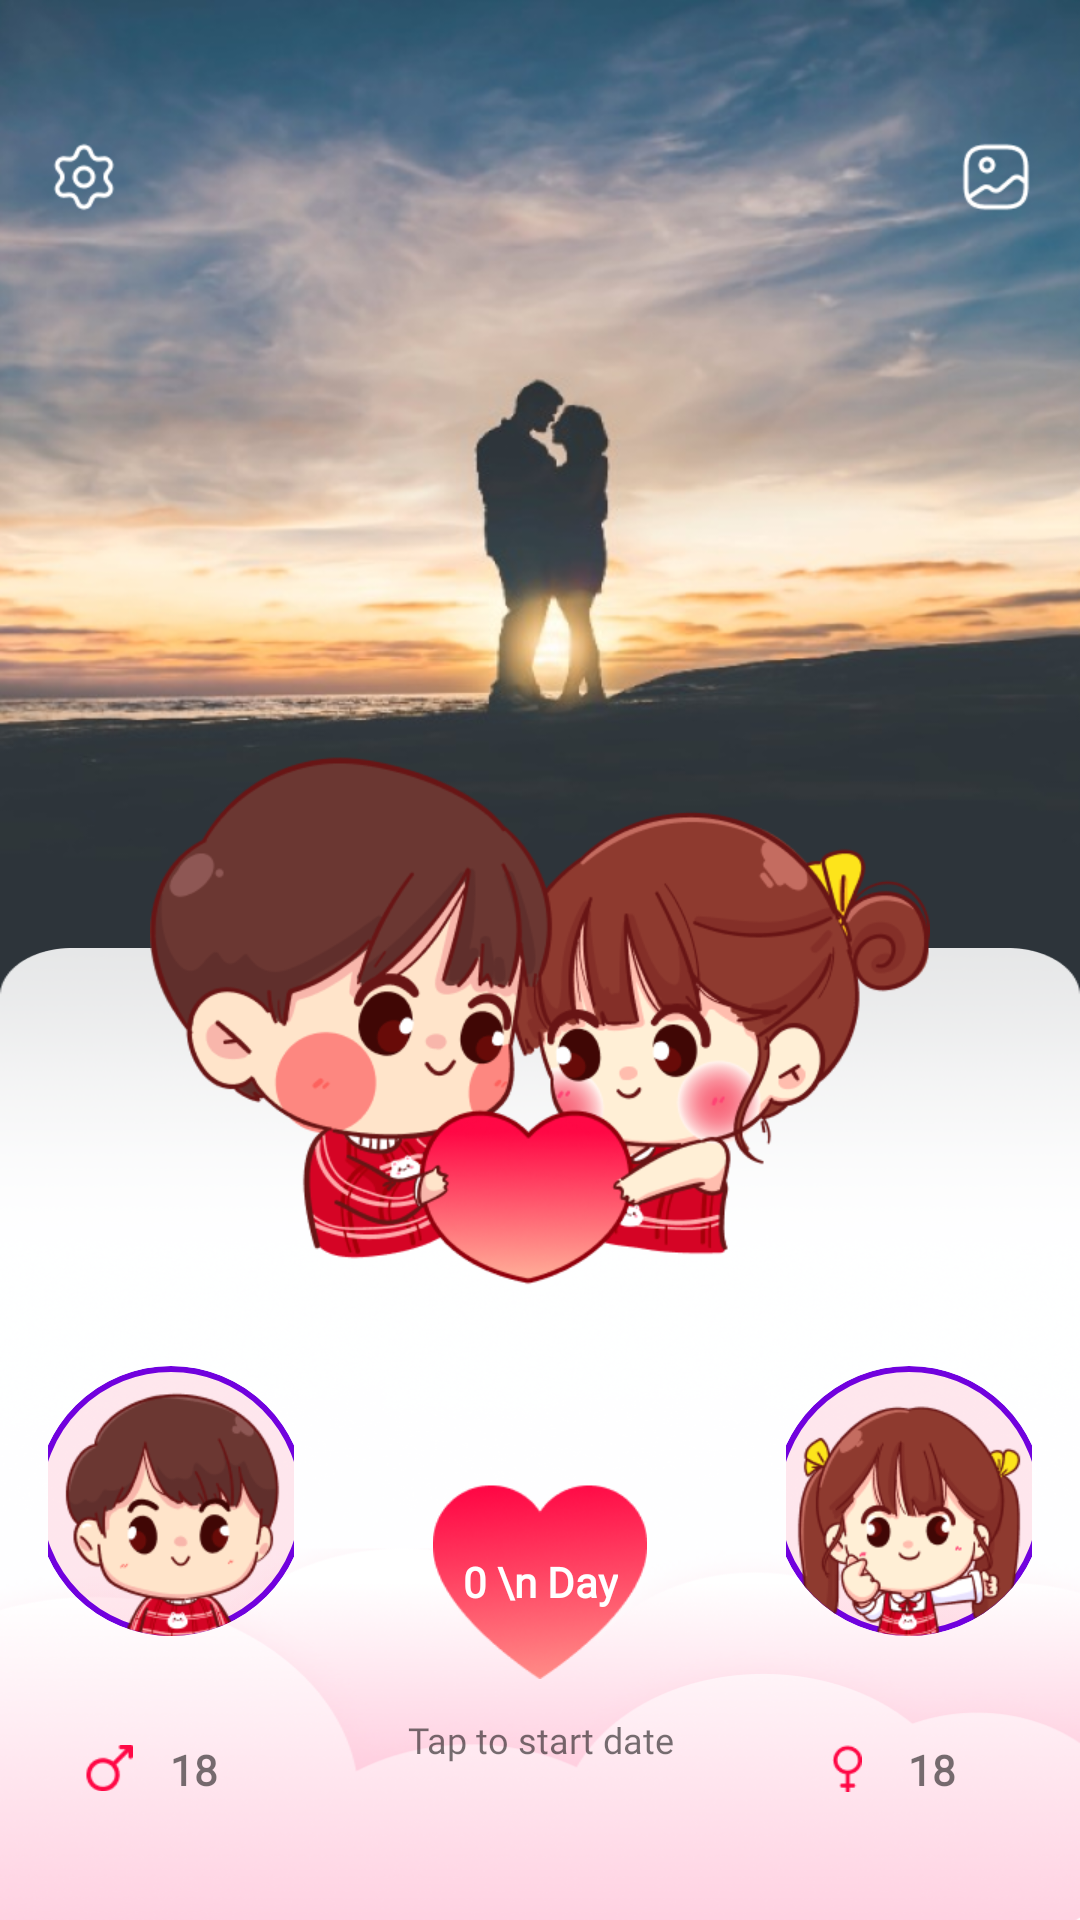

Screen size 1080w x 1920h. Icon name, then its box in pixels as (left=x1, top=y1, right=x2, bottom=y2):
female: (left=786, top=1366, right=1032, bottom=1636), (left=833, top=1745, right=862, bottom=1792)
heart: (left=433, top=1485, right=647, bottom=1679)
male: (left=48, top=1366, right=294, bottom=1636), (left=86, top=1745, right=133, bottom=1791)
setting: (left=54, top=144, right=114, bottom=211)
